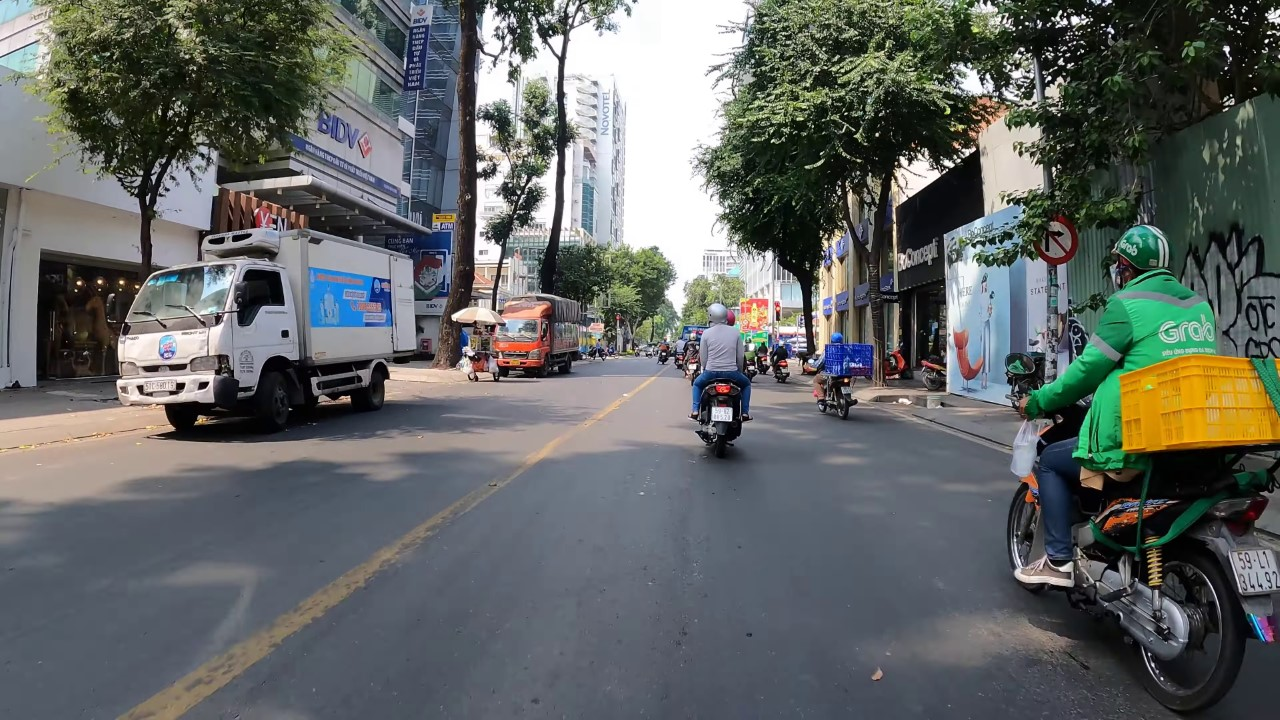cam_re_phai: (1030, 210, 1080, 267)
